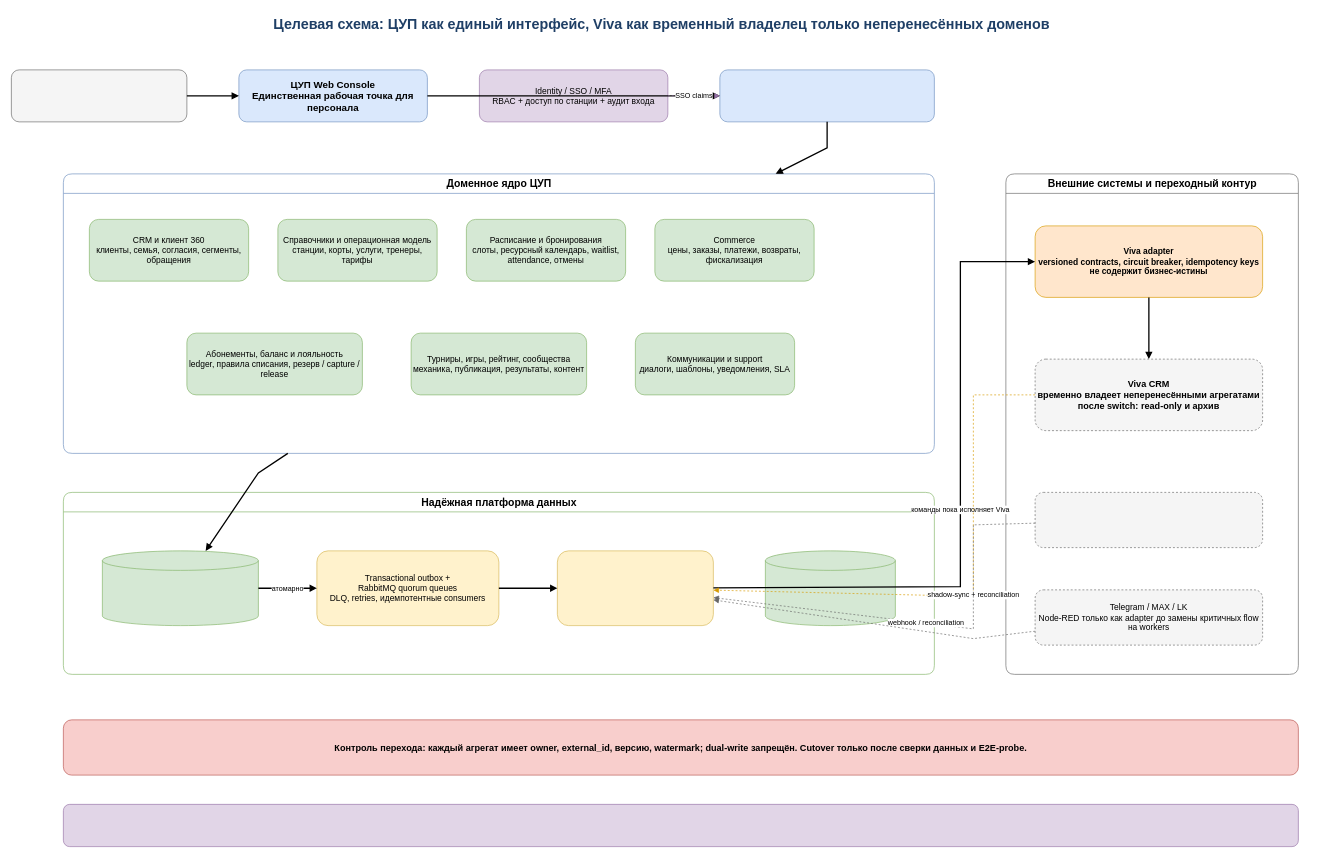
Image size: 1323x858. Some labels were removed from this diagram. The centre of each missing label's shape, as x and y in pixels:
"PostgreSQL канонические транзакционные данные один writer на aggregate" belongs at [180,588].
"S3 / MinIO вложения, экспорт, backup snapshots" belongs at [830,588].
"Workers / projections интеграции, reconciler, отчётность, уведомления" belongs at [635,588].
"Наблюдаемость: метрики, трассировка, immutable audit, SLO, backup/restore drills" belongs at [680,825].
"Платёжный провайдер / ОФД webhooks, reconciliation" belongs at [1148,520].
"Сотрудники: управляющие, администраторы, поддержка, тренеры" belongs at [99,95].
"ЦУП API и командный слой версии контрактов, идемпотентность, policy enforcement" belongs at [826,95].
